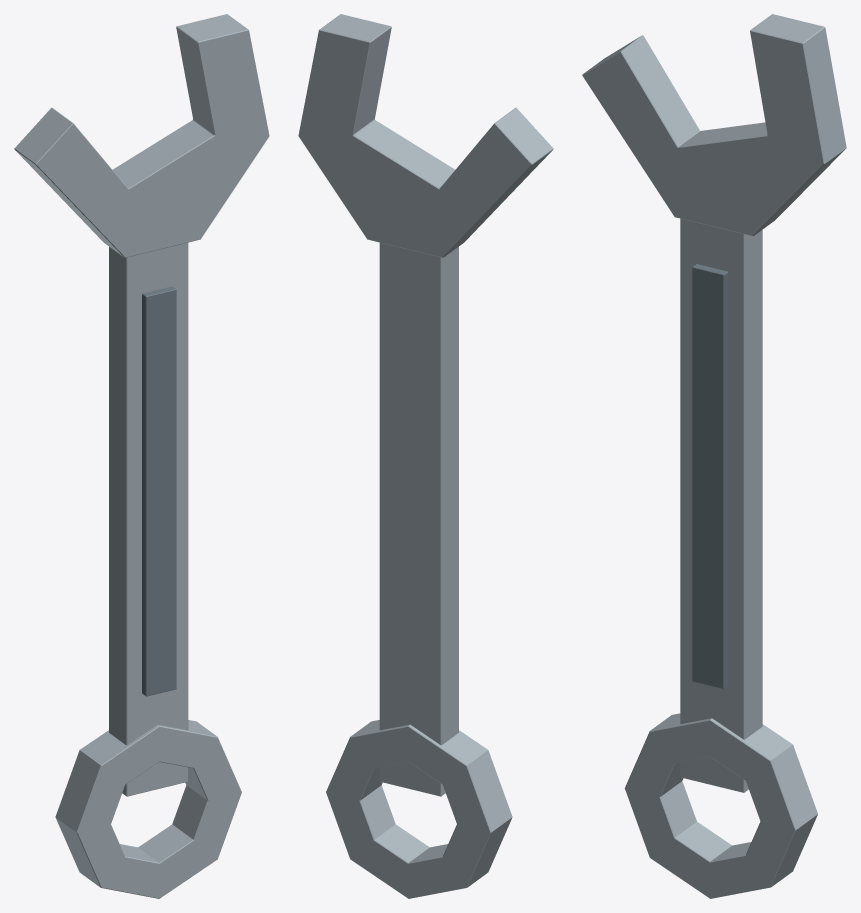
Rendered from b06_combination_wrench.glb.
3 views of the same model, side by side, from view 1: azimuth 30°, elevation 25°; view 2: azimuth 150°, elevation 25°; view 3: azimuth 330°, elevation 25° (orthographic). The views are drawn at different scales.
Parts seen in each view (by area): view 1: b06_combination_wrench; view 2: b06_combination_wrench; view 3: b06_combination_wrench.
Part boxes in pixels (<box>): b06_combination_wrench: <box>14,14,269,898</box>; b06_combination_wrench: <box>298,14,553,898</box>; b06_combination_wrench: <box>582,14,846,898</box>.
Size of the model in its own units: 0.0679 by 0.235 by 0.012.
